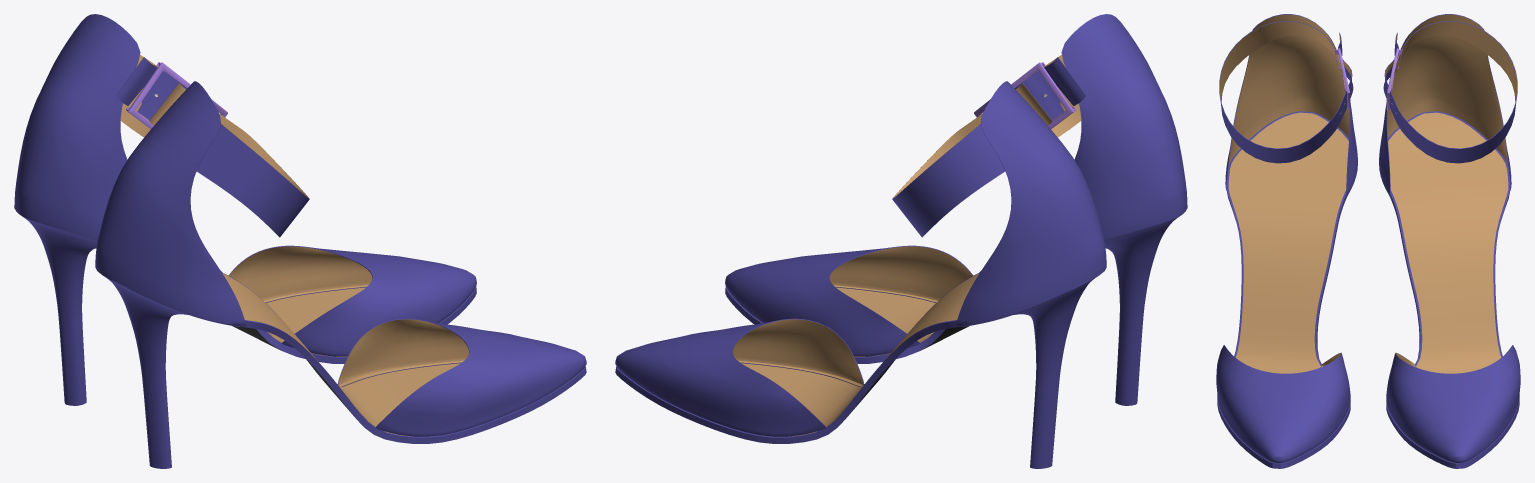
File: Poimandres.gltf
The picture shows the model from 3 angles, left to right: view 1: azimuth 30°, elevation 25°; view 2: azimuth 150°, elevation 25°; view 3: azimuth 270°, elevation 25°; orthographic projection. The views are drawn at different scales.
Parts seen in each view (by area): view 1: Object_6, Object_2, Object_4; view 2: Object_6, Object_2, Object_4; view 3: Object_2, Object_6, Object_4.
Part boxes in pixels (left/top/right/bottom): Object_6: left=14, top=14, right=586, bottom=468; Object_2: left=120, top=55, right=468, bottom=436; Object_4: left=126, top=62, right=227, bottom=128; Object_6: left=615, top=14, right=1187, bottom=468; Object_2: left=733, top=55, right=1081, bottom=436; Object_4: left=974, top=62, right=1075, bottom=128; Object_2: left=1219, top=14, right=1517, bottom=373; Object_6: left=1216, top=14, right=1520, bottom=468; Object_4: left=1334, top=48, right=1402, bottom=110.
Bounding box in the file's own units: 3.95 × 2.99 × 2.69.
